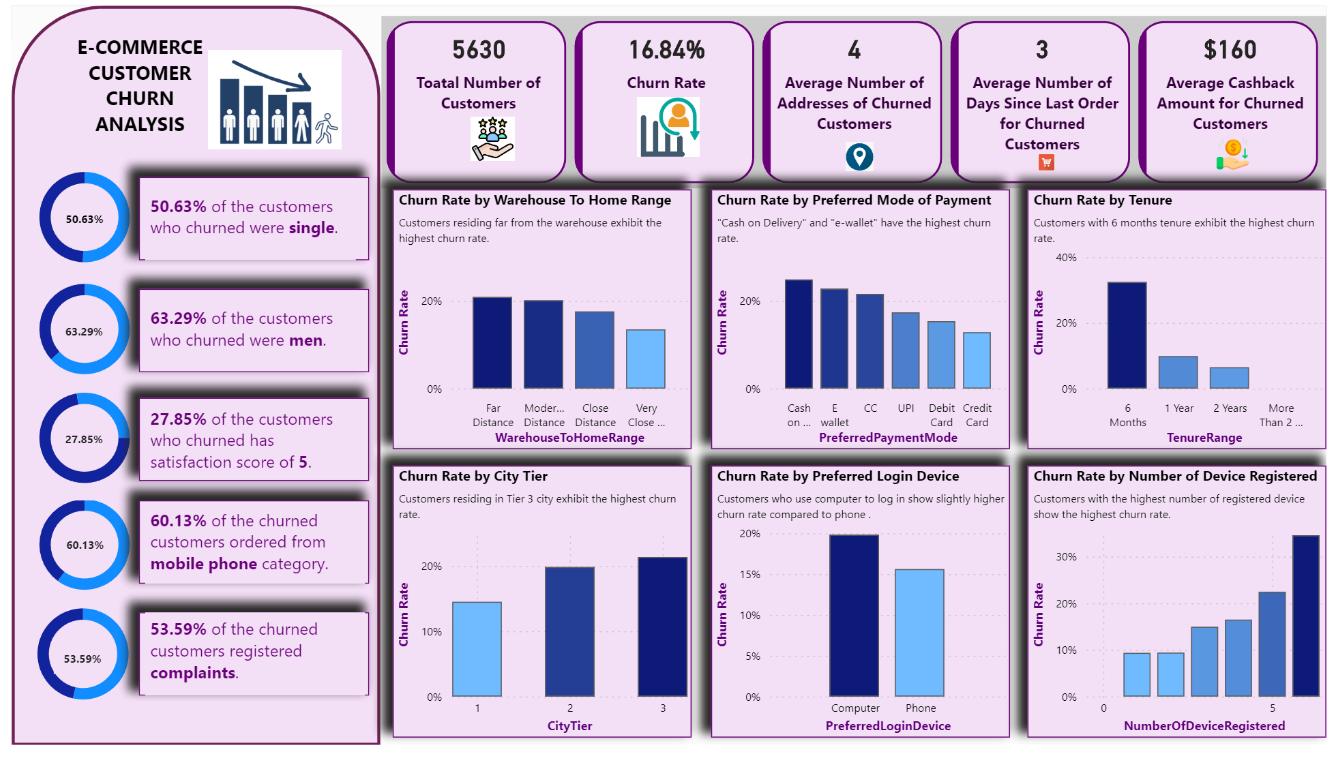

What the dashboard file says about the page in this screenshot:
{"tool":"powerbi","page":{"name":"Page 1","canvas":[1280,720],"ordinal":0},"visuals":[{"type":"cardVisual","fields":{"Data":["ecommerce_churn_processed.Toatal Number of Customers","ecommerce_churn_processed.Churn Rate","ecommerce_churn_processed.Average Number of Addresses of Churned Customers","ecommerce_churn_processed.Average Number of Days Since Last Order for Churned Customers","ecommerce_churn_processed.Average Cashback Amount for Churned Customers"]},"box":[359.5,9.6,920.8,168.8],"z":0},{"type":"shape","box":[0,0,358.9,720.8],"z":1000},{"type":"textbox","box":[42.6,22.1,164.2,123.2],"z":2000},{"type":"donutChart","fields":{"Y":["ecommerce_churn_processed.Churned Customers"],"Category":["ecommerce_churn_processed.ComplainRecieved"]},"box":[9.1,570.9,121.1,121.1],"z":3000},{"type":"donutChart","fields":{"Y":["ecommerce_churn_processed.Churned Customers"],"Category":["ecommerce_churn_processed.NewPreferredOrderCat"]},"box":[11.1,464.2,120,121.6],"z":4000},{"type":"donutChart","fields":{"Category":["ecommerce_churn_processed.NewSatisfactionScore"],"Y":["ecommerce_churn_processed.Churned Customers"]},"box":[11.1,360,120,121.6],"z":5000},{"type":"donutChart","fields":{"Y":["ecommerce_churn_processed.Churned Customers"],"Category":["ecommerce_churn_processed.Gender"]},"box":[11.1,254.2,120,121.6],"z":6000},{"type":"donutChart","fields":{"Y":["ecommerce_churn_processed.Churned Customers"],"Category":["ecommerce_churn_processed.NewMaritalStatus (groups)"]},"box":[11.1,145.3,120,121.6],"z":7000},{"type":"textbox","box":[44.2,192.6,53.7,30],"z":8000},{"type":"textbox","box":[42.6,301.6,55.3,28.4],"z":9000},{"type":"textbox","box":[42.6,407.4,55.3,30],"z":10000},{"type":"textbox","box":[44.2,510,55.3,31.6],"z":11000},{"type":"textbox","box":[40.9,620.8,56,30.3],"z":12000},{"type":"shape","box":[124.2,166.6,224.1,81.8],"z":13000},{"type":"shape","box":[124.2,275.6,224.1,81.8],"z":14000},{"type":"shape","box":[124.2,381.6,224.1,81.8],"z":15000},{"type":"shape","box":[124.2,481.5,224.1,81.8],"z":16000},{"type":"shape","box":[124.2,590.5,224.1,81.8],"z":17000},{"type":"textbox","box":[130.2,178.7,204.4,69.7],"z":18000},{"type":"textbox","box":[130.2,287.7,199.9,57.5],"z":19000},{"type":"textbox","box":[130.2,590.5,213.5,81.8],"z":20000},{"type":"textbox","box":[130.2,386.1,213.5,74.2],"z":21000},{"type":"textbox","box":[130.2,484.5,213.5,78.7],"z":22000},{"type":"columnChart","title":"Churn Rate by Warehouse To Home Range","fields":{"Y":["ecommerce_churn_processed.Churn Rate"],"Category":["ecommerce_churn_processed.WarehouseToHomeRange"]},"box":[371,178.7,290.7,252.9],"z":23000},{"type":"columnChart","title":"Churn Rate by Preferred  Mode of Payment","fields":{"Y":["ecommerce_churn_processed.Churn Rate"],"Category":["ecommerce_churn_processed.PreferredPaymentMode"]},"box":[681.4,178.7,290.7,252.9],"z":24000},{"type":"columnChart","title":"Churn Rate by Tenure","fields":{"Category":["ecommerce_churn_processed.TenureRange"],"Y":["ecommerce_churn_processed.Churn Rate"]},"box":[988.8,178.7,290.7,252.9],"z":25000},{"type":"columnChart","title":"Churn Rate by City Tier","fields":{"Category":["ecommerce_churn_processed.CityTier"],"Y":["ecommerce_churn_processed.Churn Rate"]},"box":[371,448.2,290.7,265],"z":26000},{"type":"columnChart","title":"Churn Rate by Preferred Login Device","fields":{"Y":["ecommerce_churn_processed.Churn Rate"],"Category":["ecommerce_churn_processed.PreferredLoginDevice"]},"box":[681.4,448.2,290.7,265],"z":27000},{"type":"columnChart","title":"Churn Rate by Number of Device Registered","fields":{"Y":["ecommerce_churn_processed.Churn Rate"],"Category":["ecommerce_churn_processed.NumberOfDeviceRegistered"]},"box":[988.8,448.2,290.7,265],"z":28000},{"type":"image","box":[179.8,38.4,151,107],"z":28001},{"type":"image","box":[419.9,102.9,96.1,53.5],"z":28002},{"type":"image","box":[599.7,83.7,79.6,68.6],"z":28003},{"type":"image","box":[805.6,127.6,39.8,38.4],"z":28004},{"type":"image","box":[989.4,138.6,35.7,27.4],"z":28005},{"type":"image","box":[1145.9,122.1,85.1,43.9],"z":28006}]}

Visuals, with their boxes in screenshot pixels (x1, y1, x2, y2), scaled from the page's 1280x720 canvas onto the 1338x760 screenshot:
cardVisual - ecommerce_churn_processed.Toatal Number of Customers x ecommerce_churn_processed.Churn Rate: (376, 10, 1337, 188)
shape: (0, 0, 375, 759)
textbox: (45, 23, 216, 153)
donutChart - ecommerce_churn_processed.Churned Customers x ecommerce_churn_processed.ComplainRecieved: (10, 603, 136, 730)
donutChart - ecommerce_churn_processed.Churned Customers x ecommerce_churn_processed.NewPreferredOrderCat: (12, 490, 137, 618)
donutChart - ecommerce_churn_processed.NewSatisfactionScore x ecommerce_churn_processed.Churned Customers: (12, 380, 137, 508)
donutChart - ecommerce_churn_processed.Churned Customers x ecommerce_churn_processed.Gender: (12, 268, 137, 397)
donutChart - ecommerce_churn_processed.Churned Customers x ecommerce_churn_processed.NewMaritalStatus (groups): (12, 153, 137, 282)
textbox: (46, 203, 102, 235)
textbox: (45, 318, 102, 348)
textbox: (45, 430, 102, 462)
textbox: (46, 538, 104, 572)
textbox: (43, 655, 101, 687)
shape: (130, 176, 364, 262)
shape: (130, 291, 364, 377)
shape: (130, 403, 364, 489)
shape: (130, 508, 364, 595)
shape: (130, 623, 364, 710)
textbox: (136, 189, 350, 262)
textbox: (136, 304, 345, 364)
textbox: (136, 623, 359, 710)
textbox: (136, 408, 359, 486)
textbox: (136, 511, 359, 594)
"Churn Rate by Warehouse To Home Range" columnChart: (388, 189, 692, 456)
"Churn Rate by Preferred  Mode of Payment" columnChart: (712, 189, 1016, 456)
"Churn Rate by Tenure" columnChart: (1034, 189, 1337, 456)
"Churn Rate by City Tier" columnChart: (388, 473, 692, 753)
"Churn Rate by Preferred Login Device" columnChart: (712, 473, 1016, 753)
"Churn Rate by Number of Device Registered" columnChart: (1034, 473, 1337, 753)
image: (188, 41, 346, 153)
image: (439, 109, 539, 165)
image: (627, 88, 710, 161)
image: (842, 135, 884, 175)
image: (1034, 146, 1072, 175)
image: (1198, 129, 1287, 175)
